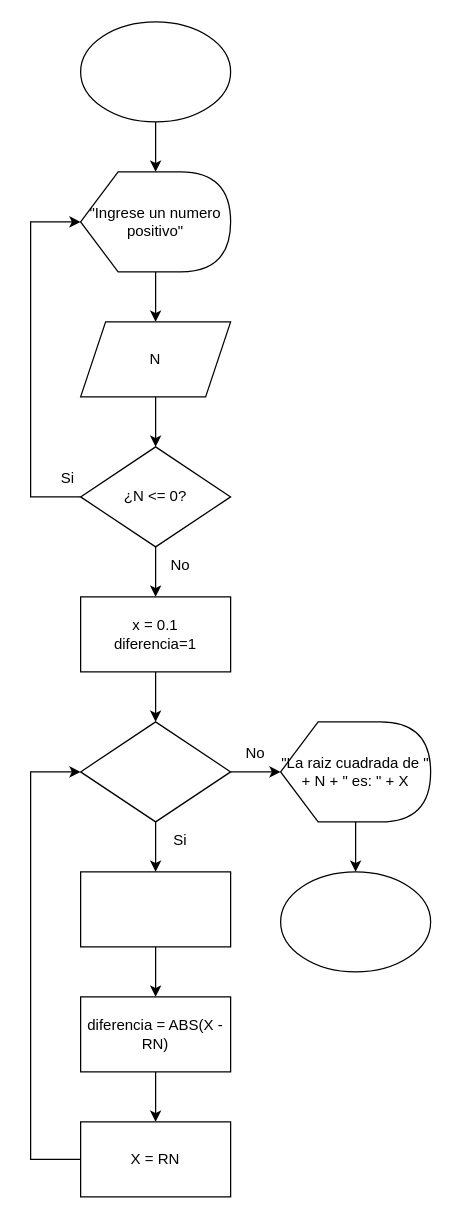
Some shapes in this 453 by 1219 pixel diagram are drawn without their labels. The centre of each missing label's shape, as x and y in pixels:
Fin: (355,921)
Inicio: (155,71)
RN=(X+N/X)/2: (155,909)
¿diferencia >= 0.000001?: (155,771)
